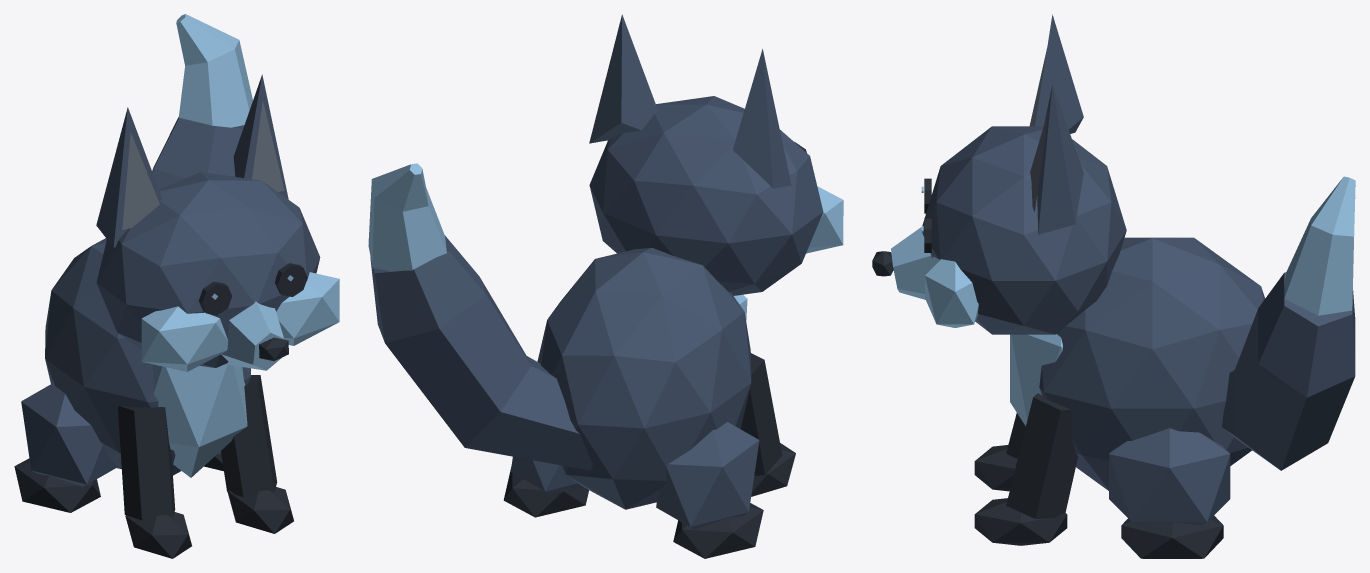
The picture shows the model from 3 angles, left to right: view 1: azimuth 30°, elevation 25°; view 2: azimuth 150°, elevation 25°; view 3: azimuth 270°, elevation 25°; orthographic projection. The views are drawn at different scales.
Visible parts, largest first — view 1: Cabeça, Corpo sentado, Peito, Ponta da cauda, Anca.001, Pata dianteira, Bochecha clara.001, Cauda volumosa, Pata dianteira.001, Bochecha clara, Orelha triangular, Focinho (+9 smaller); view 2: Corpo sentado, Cabeça, Cauda volumosa, Anca.001, Ponta da cauda, Orelha triangular.001, Orelha triangular, Pé traseiro, Pata dianteira, Pé traseiro.001, Bochecha clara.001, Anca (+1 smaller); view 3: Corpo sentado, Cabeça, Cauda volumosa, Anca, Ponta da cauda, Pata dianteira.001, Orelha triangular.001, Pé traseiro.001, Bochecha clara, Peito, Pé dianteiro.001, Orelha triangular (+3 smaller).
Part boxes in pixels (x1=…): Cabeça: x1=96, y1=172, x2=320, y2=367; Corpo sentado: x1=45, y1=238, x2=250, y2=475; Peito: x1=153, y1=363, x2=247, y2=477; Ponta da cauda: x1=176, y1=14, x2=252, y2=127; Anca.001: x1=21, y1=383, x2=117, y2=486; Pata dianteira: x1=118, y1=406, x2=175, y2=520; Bochecha clara.001: x1=141, y1=306, x2=227, y2=371; Cauda volumosa: x1=152, y1=117, x2=244, y2=189; Pata dianteira.001: x1=221, y1=375, x2=277, y2=497; Bochecha clara: x1=276, y1=272, x2=339, y2=345; Orelha triangular: x1=96, y1=107, x2=162, y2=247; Focinho: x1=221, y1=301, x2=283, y2=370; Corpo sentado: x1=537, y1=247, x2=751, y2=509; Cabeça: x1=589, y1=96, x2=823, y2=295; Cauda volumosa: x1=370, y1=235, x2=592, y2=470; Anca.001: x1=656, y1=422, x2=759, y2=528; Ponta da cauda: x1=368, y1=163, x2=446, y2=271; Orelha triangular.001: x1=589, y1=14, x2=657, y2=143; Orelha triangular: x1=733, y1=49, x2=791, y2=188; Pé traseiro: x1=673, y1=503, x2=763, y2=558; Pata dianteira: x1=740, y1=353, x2=782, y2=475; Pé traseiro.001: x1=503, y1=467, x2=588, y2=517; Bochecha clara.001: x1=806, y1=186, x2=843, y2=253; Anca: x1=510, y1=456, x2=584, y2=494; Corpo sentado: x1=1039, y1=237, x2=1264, y2=490; Cabeça: x1=922, y1=126, x2=1126, y2=334; Cauda volumosa: x1=1222, y1=272, x2=1355, y2=470; Anca: x1=1109, y1=428, x2=1230, y2=525; Ponta da cauda: x1=1284, y1=176, x2=1355, y2=315; Pata dianteira.001: x1=1006, y1=393, x2=1078, y2=518; Orelha triangular.001: x1=1037, y1=84, x2=1083, y2=234; Pé traseiro.001: x1=1121, y1=515, x2=1223, y2=558; Bochecha clara: x1=925, y1=256, x2=978, y2=327; Peito: x1=1010, y1=334, x2=1062, y2=426; Pé dianteiro.001: x1=974, y1=498, x2=1067, y2=545; Orelha triangular: x1=1035, y1=14, x2=1083, y2=133.
Size of the model in its own units: 1.3 by 1.81 by 1.69.
